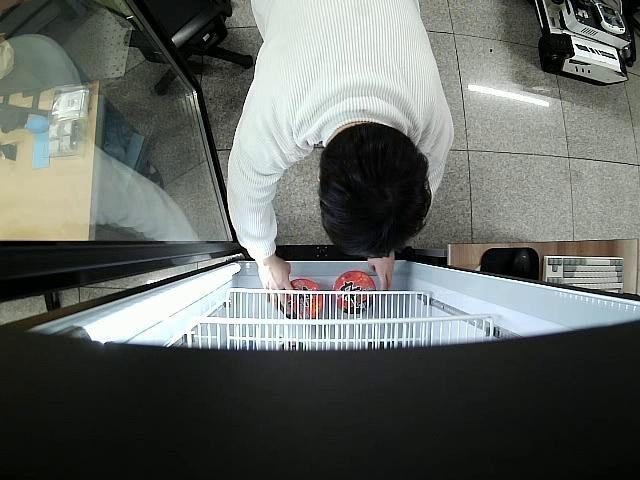01_ShinRamen_L: (332, 269, 377, 314), (282, 279, 324, 318)
